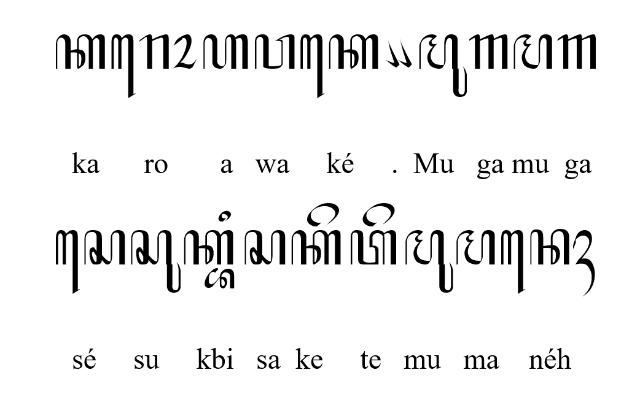_b: (204, 268, 236, 290)
_h1: (572, 229, 596, 297)
e: (362, 202, 396, 227), (306, 202, 339, 227)
e1: (54, 229, 80, 295), (500, 229, 526, 295), (110, 34, 136, 98), (299, 34, 325, 98)
g: (556, 34, 598, 70), (469, 34, 509, 70)
h: (202, 32, 250, 70)
i: (217, 210, 231, 222)
k: (183, 228, 234, 266), (291, 230, 343, 266), (328, 34, 379, 70), (55, 33, 105, 69)
kom: (384, 40, 400, 68), (396, 40, 412, 68)
m: (456, 228, 496, 266), (512, 33, 554, 69)
mu: (418, 33, 468, 97), (404, 229, 454, 293)
n: (530, 228, 570, 266)
o: (172, 33, 196, 69)
r: (139, 34, 171, 70)
s: (84, 228, 126, 266), (244, 230, 286, 266)
su: (130, 229, 182, 293)
t: (349, 229, 397, 265)
w: (254, 34, 296, 70)
